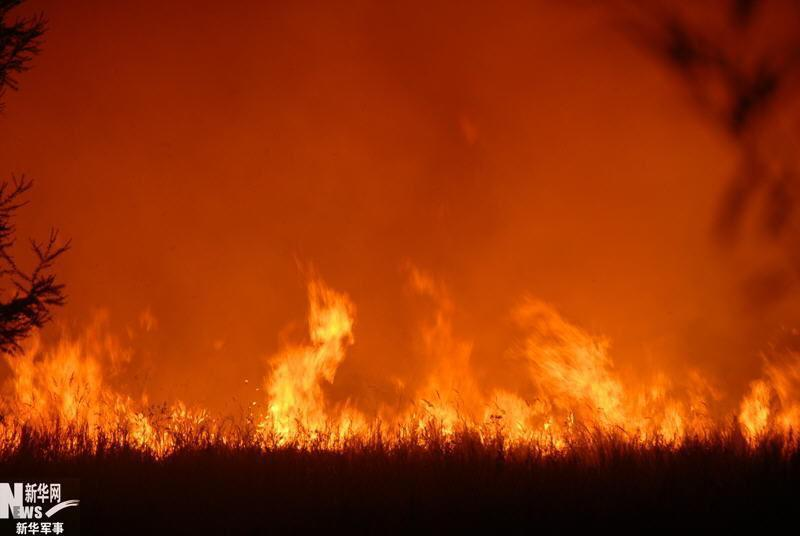fire: (7, 238, 798, 459)
